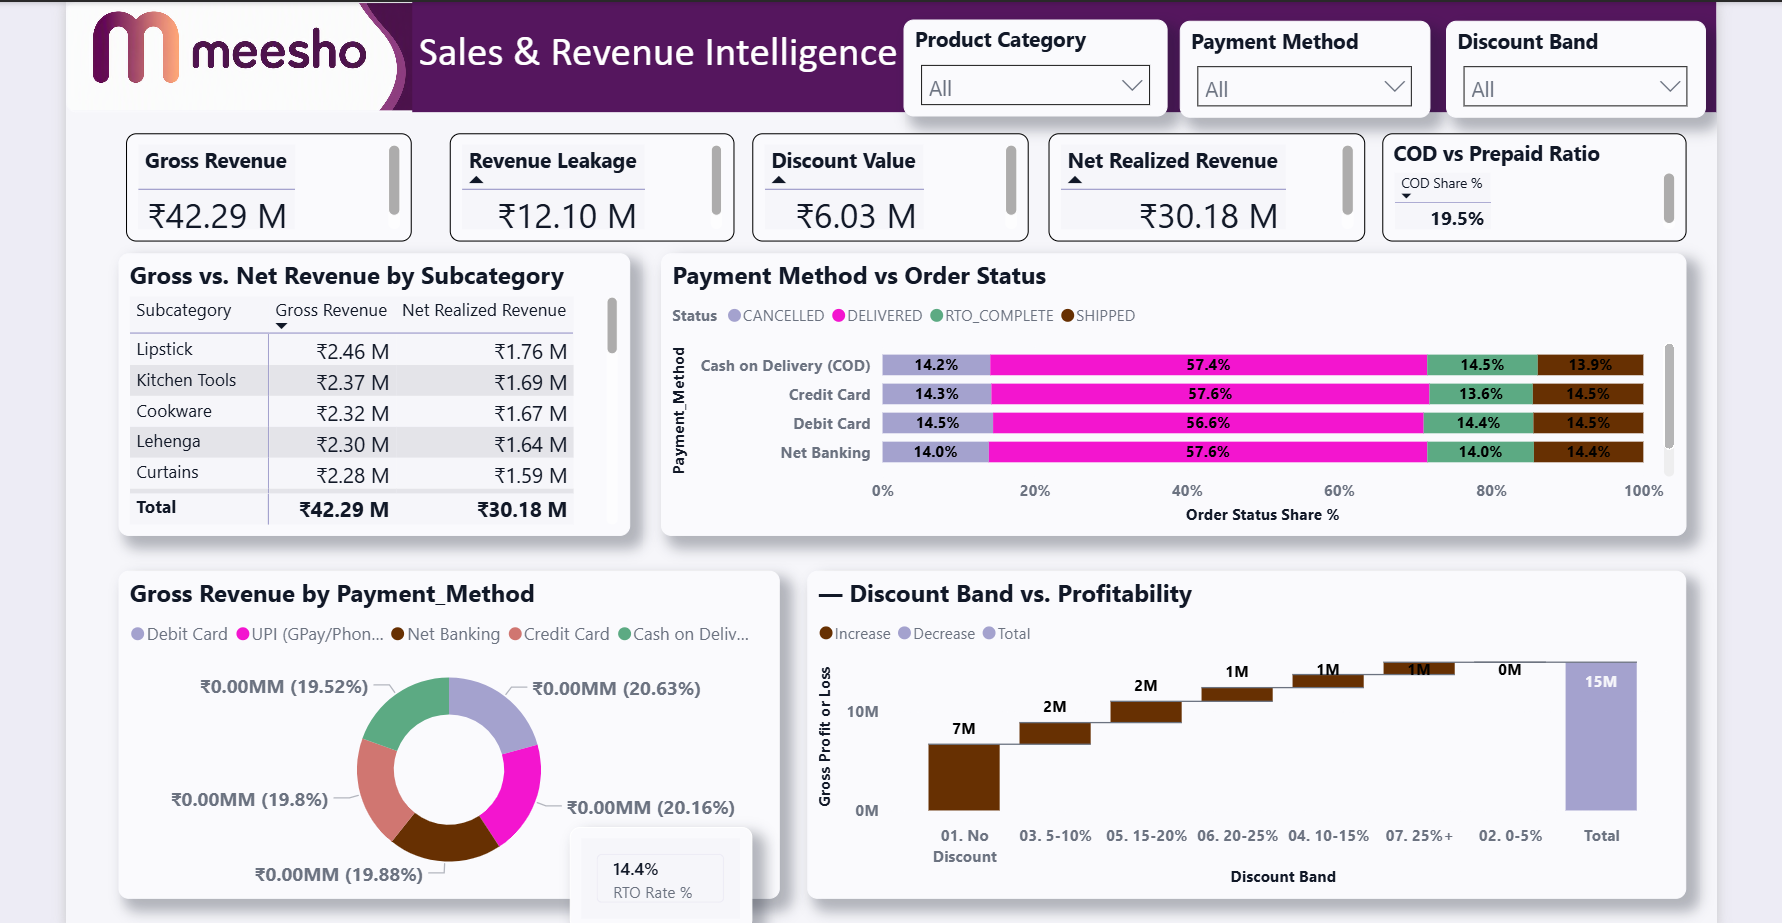

What the dashboard file says about the page in this screenshot:
{"tool":"powerbi","page":{"name":"Sales & Revenue Intelligence","canvas":[1280,720],"ordinal":2},"visuals":[{"type":"image","box":[0,0,280.5,85.4],"z":0},{"type":"shape","box":[268.7,0,1011.3,85.4],"z":1000},{"type":"textbox","box":[268.5,13.2,391.9,55.1],"z":2000},{"type":"slicer","title":"Product Category","fields":{"Values":["meesho_sales_flat_analytics.Product_Category"]},"box":[649.6,13.2,204.9,75.5],"z":3000},{"type":"slicer","title":"Payment Method","fields":{"Values":["meesho_sales_flat_analytics.Payment_Method"]},"box":[864.1,14.4,194.2,75.5],"z":4000},{"type":"slicer","title":"Discount Band ","fields":{"Values":["meesho_sales_flat_analytics.Discount Band"]},"box":[1070.3,14.4,201.3,75.5],"z":5000},{"type":"tableEx","fields":{"Values":["Metrics.Gross Revenue"]},"box":[46.7,101.9,221.7,83.9],"z":6000},{"type":"tableEx","fields":{"Values":["Metrics.Revenue Leakage"]},"box":[297.2,101.9,220.5,83.9],"z":7000},{"type":"tableEx","fields":{"Values":["Metrics.Net Realized Revenue"]},"box":[762.2,101.9,245.7,83.9],"z":8000},{"type":"tableEx","title":"COD vs Prepaid Ratio","fields":{"Values":["Metrics.COD Share %"]},"box":[1021.1,101.9,236.1,83.9],"z":9000},{"type":"tableEx","fields":{"Values":["Metrics.Discount Value"]},"box":[532.1,101.9,214.5,83.9],"z":10000},{"type":"pivotTable","title":"Gross vs. Net Revenue by Subcategory","fields":{"Rows":["meesho_products.Subcategory"],"Values":["Metrics.Gross Revenue","Metrics.Net Realized Revenue"]},"box":[40.4,194.8,396.8,219.3],"z":11000},{"type":"donutChart","fields":{"Y":["Metrics.Gross Revenue"],"Category":["meesho_sales_flat_analytics.Payment_Method"]},"box":[40.7,441,513,254.1],"z":12000},{"type":"cardVisual","fields":{"Data":["Metrics.RTO Rate %"]},"box":[390.7,640,141.4,80.3],"z":13000},{"type":"waterfallChart","title":"— Discount Band vs. Profitability","fields":{"Category":["meesho_sales_flat_analytics.Discount Band"],"Y":["Metrics.Gross Profit or Loss"]},"box":[575.3,441,681.9,254.1],"z":14000},{"type":"barChart","title":"Payment Method vs Order Status","fields":{"Category":["meesho_sales_flat_analytics.Payment_Method"],"Series":["meesho_sales_flat_analytics.Status"],"Y":["Metrics.Order Status Share %"]},"box":[461.7,194.8,795,219.3],"z":15000}]}

Visuals, with their boxes on the page's 1280x720 design canvas (x1, y1, x2, y2). These are canvas units, not pixel positions in the 1782x923 screenshot, which may show the page scaled, cropped or inside an application window:
image: box(0, 0, 280, 85)
shape: box(269, 0, 1280, 85)
textbox: box(268, 13, 660, 68)
"Product Category" slicer: box(650, 13, 854, 89)
"Payment Method" slicer: box(864, 14, 1058, 90)
"Discount Band " slicer: box(1070, 14, 1272, 90)
tableEx - Metrics.Gross Revenue: box(47, 102, 268, 186)
tableEx - Metrics.Revenue Leakage: box(297, 102, 518, 186)
tableEx - Metrics.Net Realized Revenue: box(762, 102, 1008, 186)
"COD vs Prepaid Ratio" tableEx: box(1021, 102, 1257, 186)
tableEx - Metrics.Discount Value: box(532, 102, 747, 186)
"Gross vs. Net Revenue by Subcategory" pivotTable: box(40, 195, 437, 414)
donutChart - Metrics.Gross Revenue x meesho_sales_flat_analytics.Payment_Method: box(41, 441, 554, 695)
cardVisual - Metrics.RTO Rate %: box(391, 640, 532, 720)
"— Discount Band vs. Profitability" waterfallChart: box(575, 441, 1257, 695)
"Payment Method vs Order Status" barChart: box(462, 195, 1257, 414)
